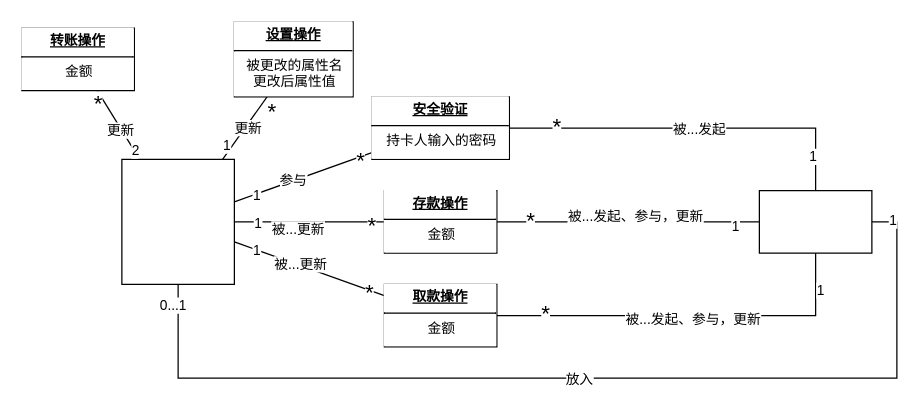
Some shapes in this 920 by 409 pixel diagram are drawn without their labels. Each missing label, with the centre of its shape:
"ATM机 现金储备" goes at point (815, 221).
"银行卡 账号 余额 密码 取款额度 转账额度" goes at point (177, 221).
